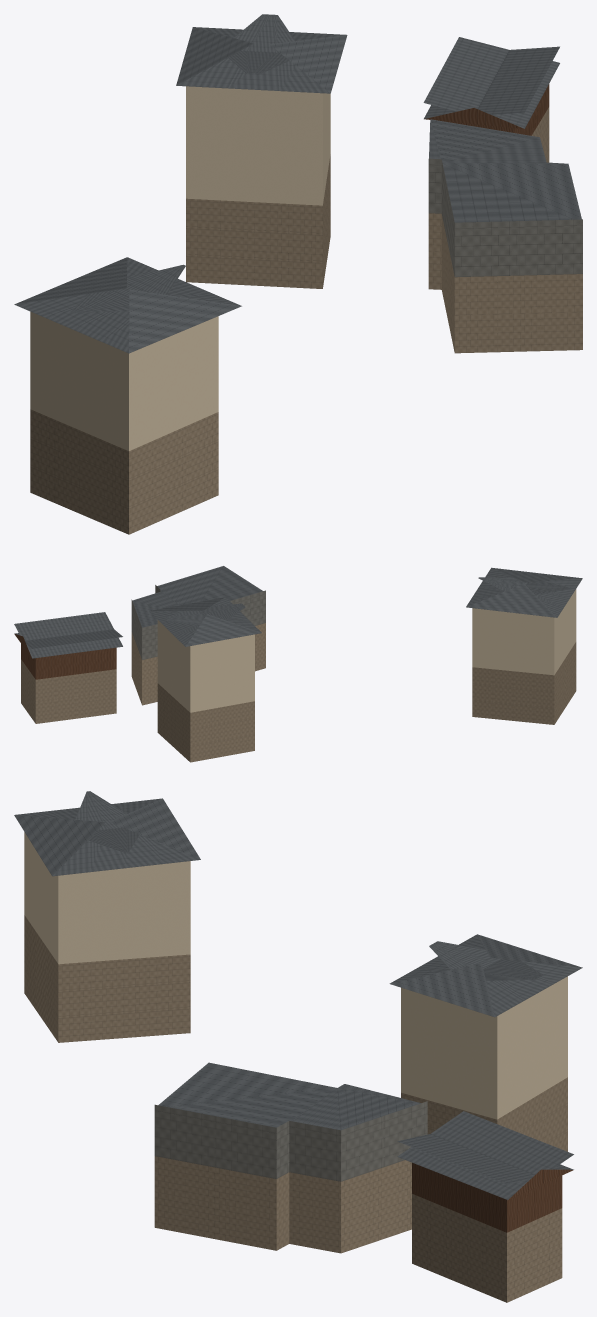
Rendered from bld_c9_6_517.gltf.
The picture shows the model from 3 angles, top to bottom: view 1: azimuth 30°, elevation 25°; view 2: azimuth 150°, elevation 25°; view 3: azimuth 270°, elevation 25°; orthographic projection. The views are drawn at different scales.
Parts seen in each view (by area): view 1: bld_c9_6_517; view 2: bld_c9_6_517; view 3: bld_c9_6_517.
Boxes of the visible parts, x1,y1,x2,y2 form: bld_c9_6_517: (14,14,582,534); bld_c9_6_517: (14,566,582,762); bld_c9_6_517: (14,791,582,1302).
Bounding box in the file's own units: 46.63 × 13.4 × 33.43.
7 materials, 7 textured.
